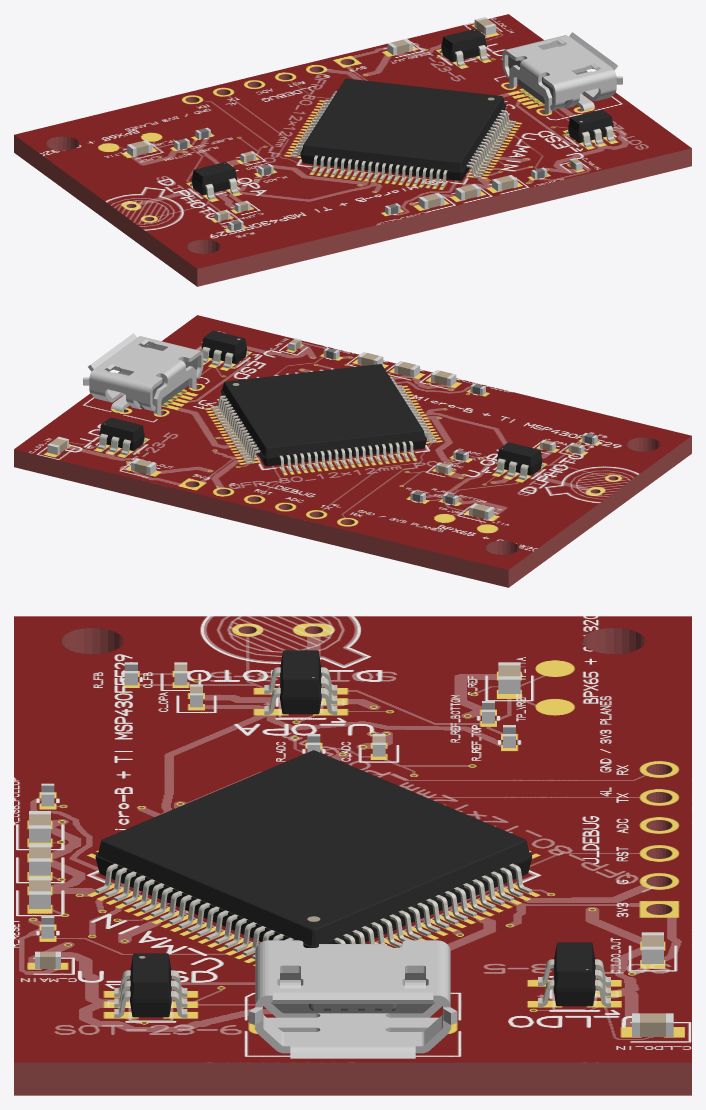
3 views of the same model, one above another, from view 1: azimuth 30°, elevation 25°; view 2: azimuth 150°, elevation 25°; view 3: azimuth 270°, elevation 25° (orthographic). The views are drawn at different scales.
Visible parts, largest first — view 1: Box0, U_MAIN, J1, U_ESD, U_LDO, U_OPA; view 2: Box0, U_MAIN, J1, U_LDO, U_OPA, U_ESD; view 3: Box0, U_MAIN, J1, U_ESD, U_OPA, U_LDO, C_LDO_IN, C_LDO_OUT, C_REF.
Boxes of the visible parts, box(x1,y1,x2,y2) form: Box0: box(14, 14, 691, 286); U_MAIN: box(290, 78, 516, 187); J1: box(502, 32, 622, 114); U_ESD: box(566, 109, 615, 147); U_LDO: box(439, 28, 488, 66); U_OPA: box(190, 162, 238, 199); Box0: box(14, 315, 691, 587); U_MAIN: box(210, 364, 436, 472); J1: box(83, 333, 203, 415); U_LDO: box(97, 417, 146, 455); U_OPA: box(495, 442, 544, 480); U_ESD: box(201, 330, 248, 368); Box0: box(14, 616, 691, 1095); U_MAIN: box(95, 750, 532, 959); J1: box(248, 940, 457, 1058); U_ESD: box(114, 953, 187, 1017); U_OPA: box(264, 650, 337, 714); U_LDO: box(538, 942, 610, 1006); C_LDO_IN: box(632, 1013, 673, 1036); C_LDO_OUT: box(641, 932, 663, 963); C_REF: box(498, 662, 520, 693).
Bounding box in the file's own units: 40.5 × 4.13 × 26.
Materials: 13 (2 with a texture image).
